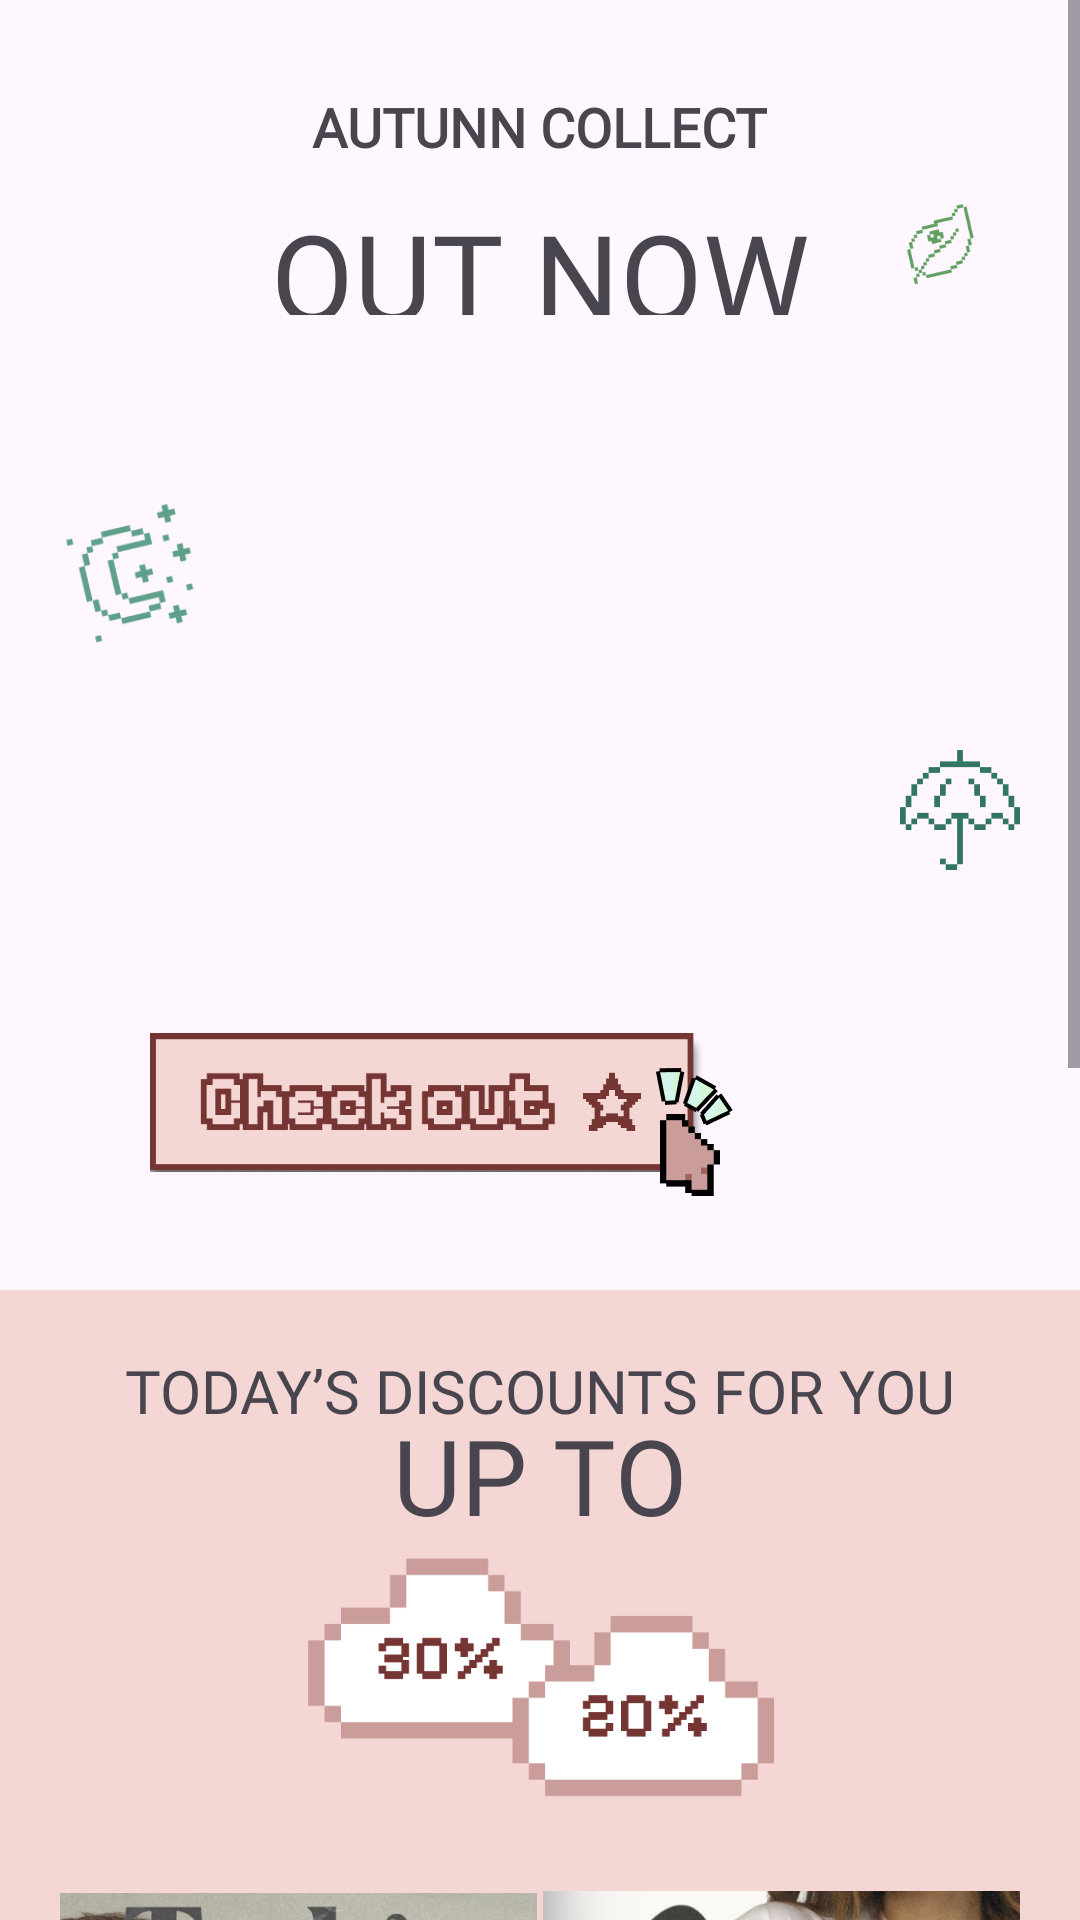

Point at icon controls on the screen. Image size 1080w x 1920h, points as (x,y).
eco leaf: (940,244)
moon stars: (130,573)
umbrella: (960,810)
